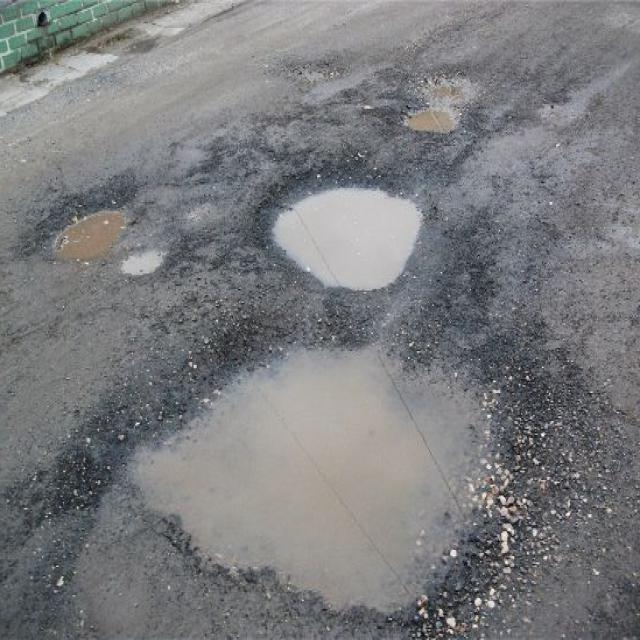Pothole: (110, 322, 518, 625), (266, 166, 434, 297), (41, 193, 133, 262), (397, 70, 481, 139)
